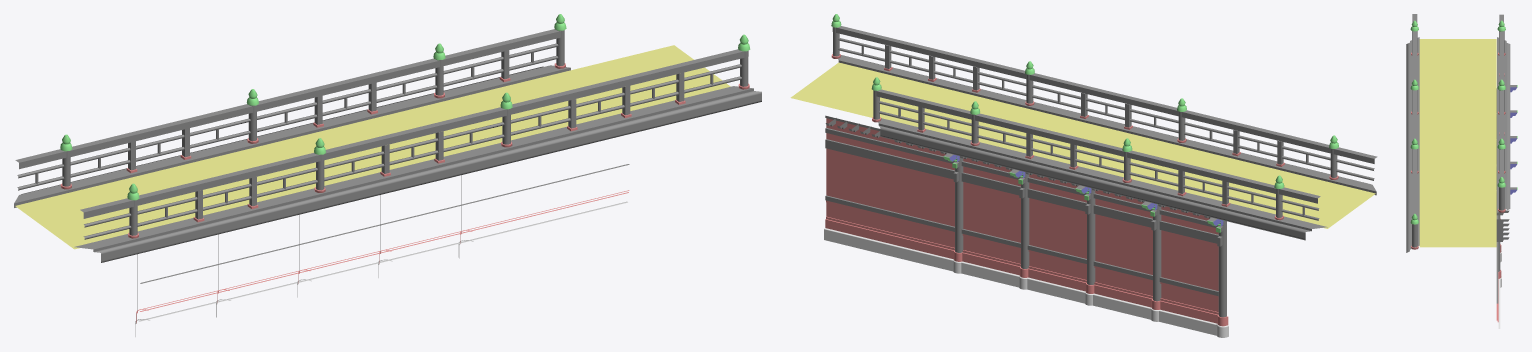
The model's file is SM_ENV_KNVLLG03_Bridge_ConnectorC.gltf.
3 renders of one model, left to right at view 1: azimuth 30°, elevation 25°; view 2: azimuth 150°, elevation 25°; view 3: azimuth 270°, elevation 25°, orthographic. The views are drawn at different scales.
Visible parts, largest first — view 1: SM_ENV_KNVLLG03_Bridge_ConnectorC; view 2: SM_ENV_KNVLLG03_Bridge_ConnectorC; view 3: SM_ENV_KNVLLG03_Bridge_ConnectorC.
Part boxes in pixels (box(x1,y1,x2,y2)): SM_ENV_KNVLLG03_Bridge_ConnectorC: box(14, 14, 761, 336); SM_ENV_KNVLLG03_Bridge_ConnectorC: box(790, 14, 1377, 337); SM_ENV_KNVLLG03_Bridge_ConnectorC: box(1406, 14, 1517, 328).
Bounding box in the file's own units: 27.38 × 8.33 × 6.
